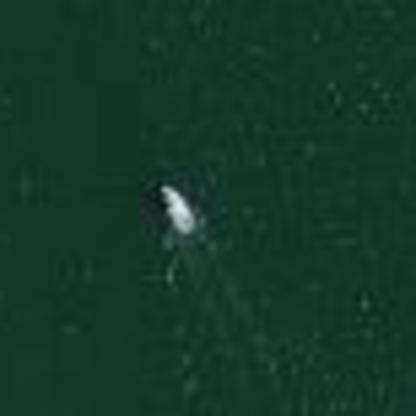ship: (149, 175, 203, 243)
